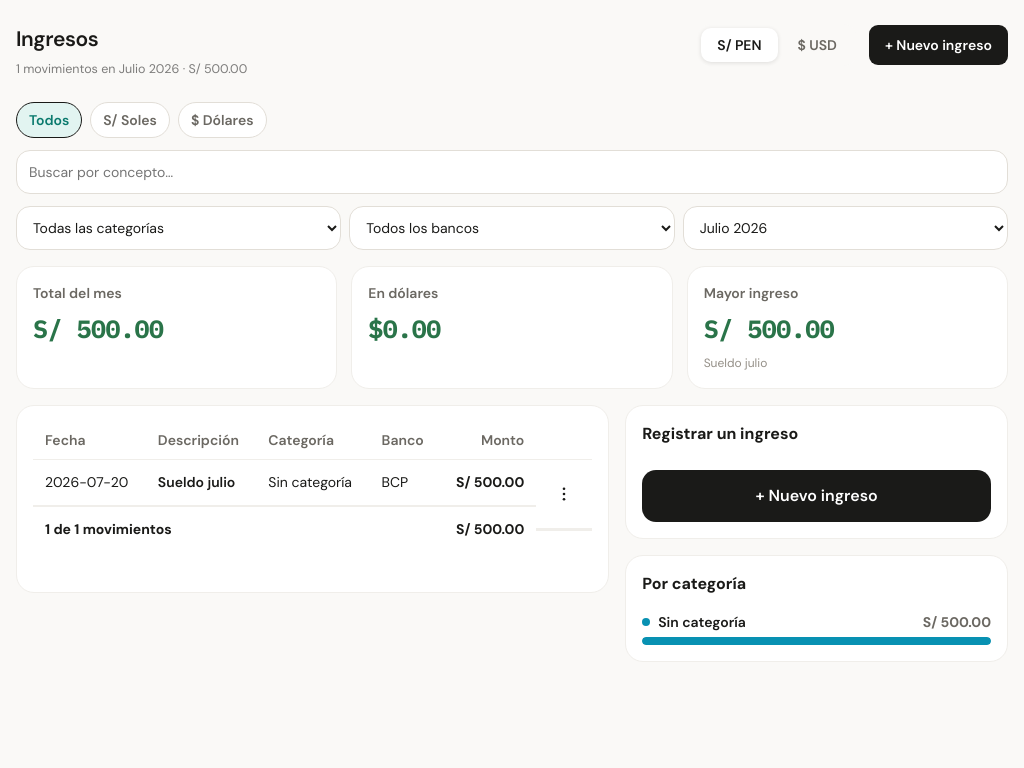
IngresosView (HU-11.3) › editar y eliminar ingreso (HU-11.3 / HU-11.4) › camino feliz eliminar: confirmar elimina el ingreso y desaparece de la lista
Click the button with class "boton-menu-acciones": coordinates (564, 494) x1=542 y1=472 x2=586 y2=516
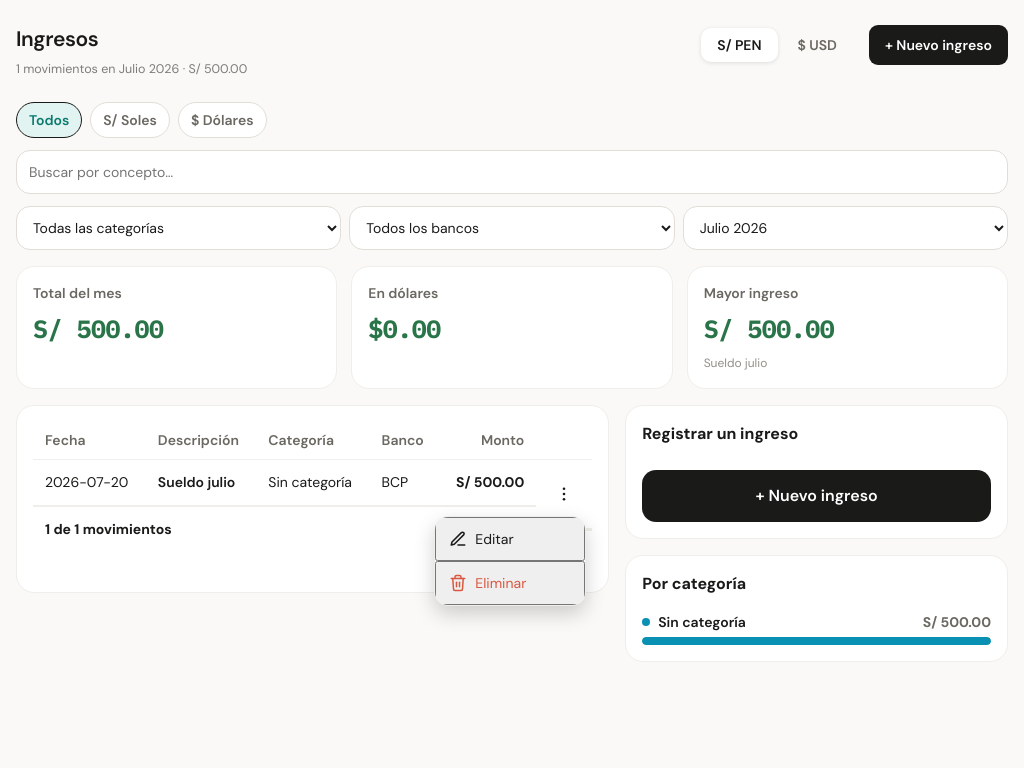
Click the menu item with class "boton-eliminar": coordinates (510, 583) x1=435 y1=561 x2=585 y2=605
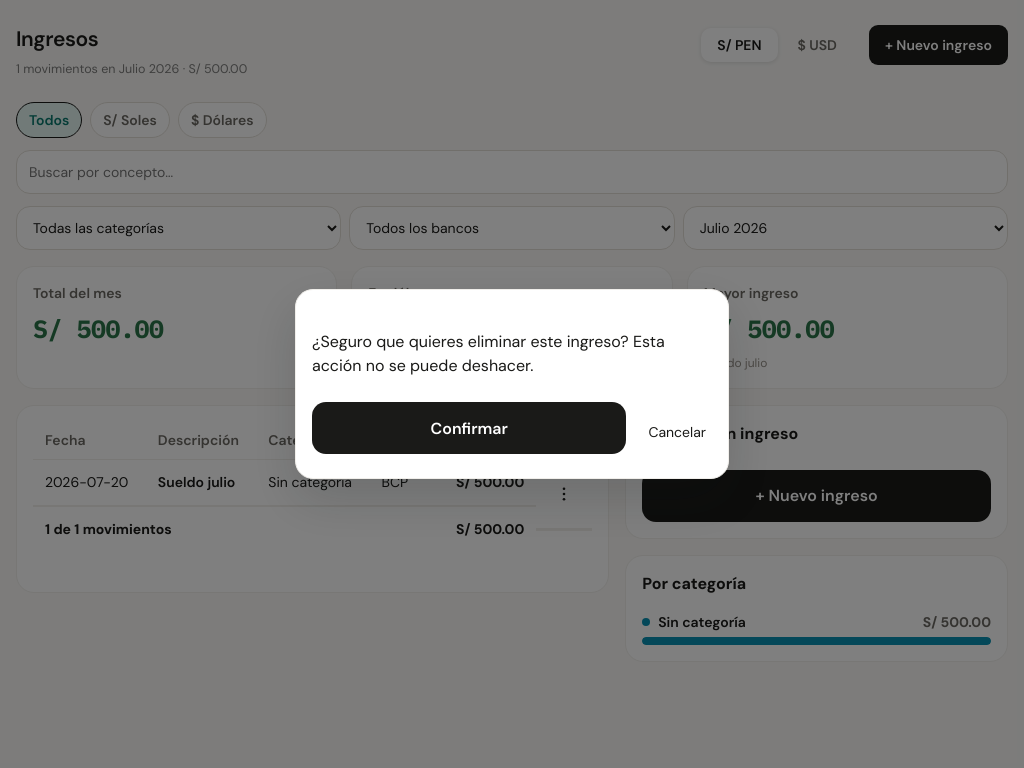
Click the button with class "boton-primario" showing "Confirmar": coordinates (469, 428) x1=312 y1=402 x2=626 y2=454
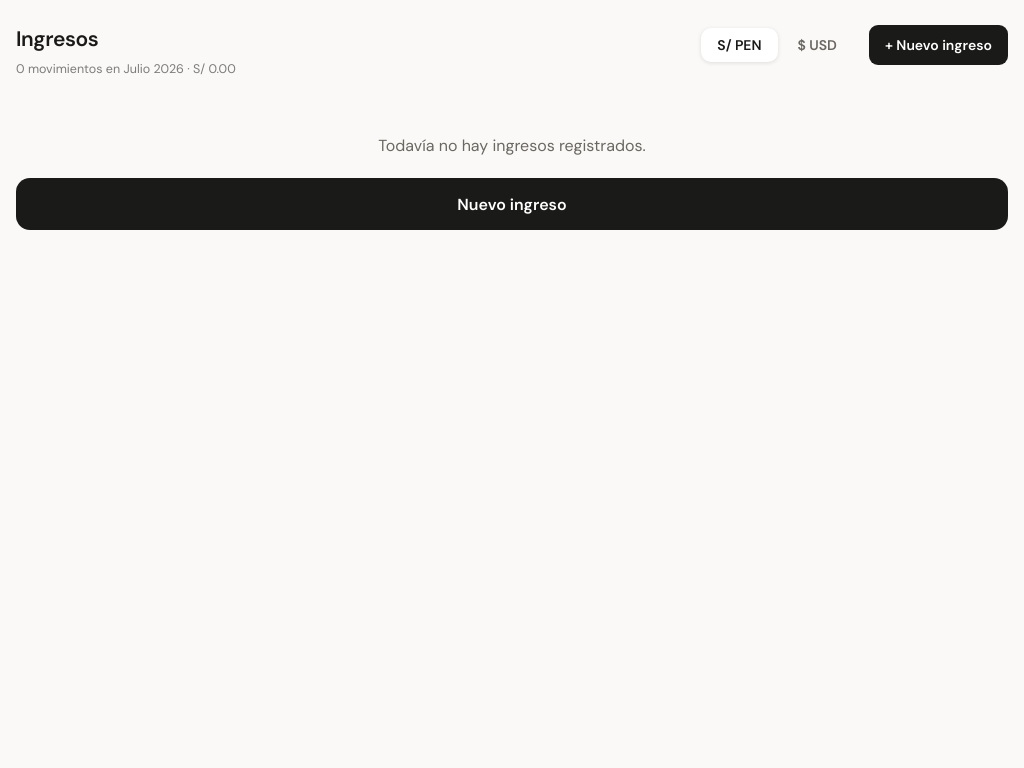
expect the text "Sueldo julio" is gone: met
